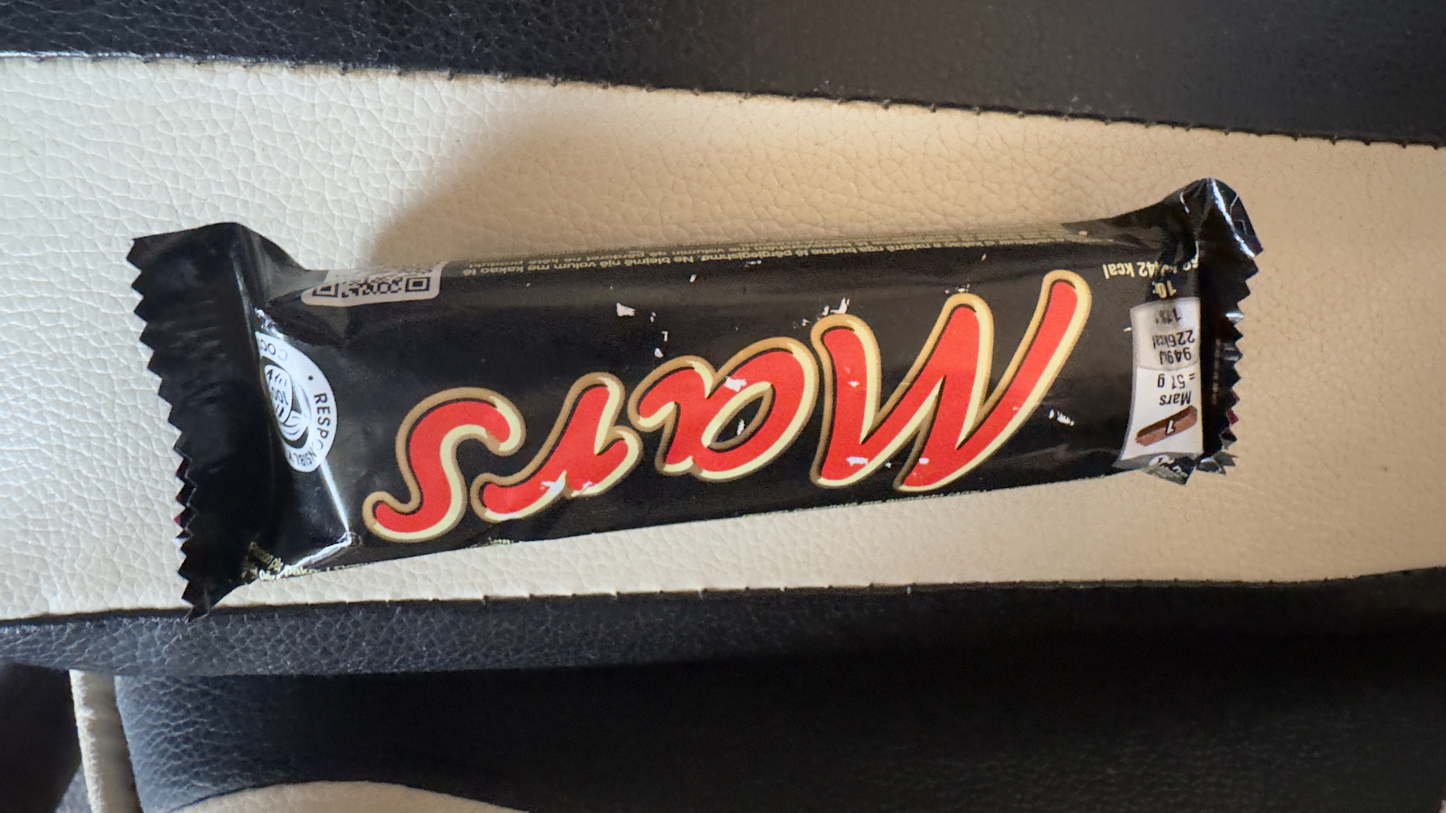MARS: (86, 239, 1257, 638)
